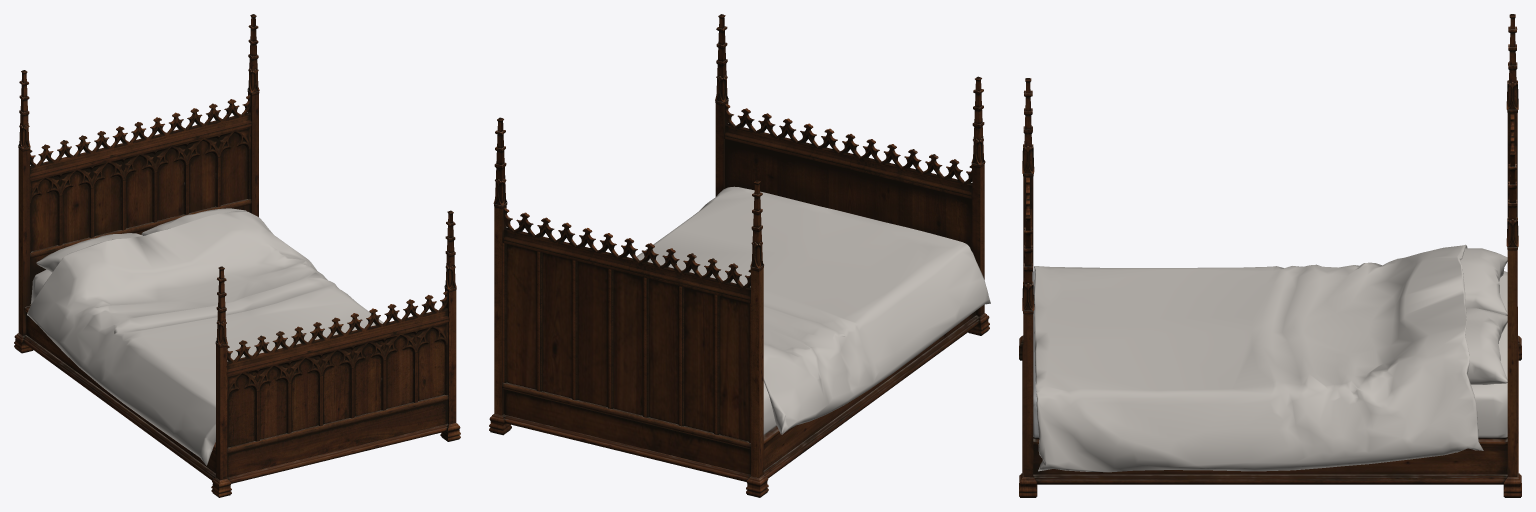
File: gothic_bed_01.glb
3 renders of one model, left to right at view 1: azimuth 30°, elevation 25°; view 2: azimuth 150°, elevation 25°; view 3: azimuth 270°, elevation 25°, orthographic. The views are drawn at different scales.
Visible parts, largest first — view 1: gothic_bed_1; view 2: gothic_bed_1; view 3: gothic_bed_1.
Boxes of the visible parts, x1,y1,x2,y2 form: gothic_bed_1: (14, 14, 460, 497); gothic_bed_1: (489, 14, 990, 497); gothic_bed_1: (1019, 14, 1521, 497).
Bounding box in the file's own units: 1.49 × 1.53 × 2.04.
1 material, 1 textured.
